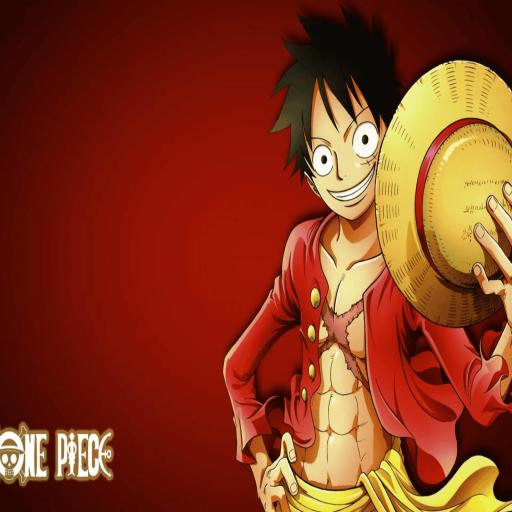Luffy: (234, 0, 512, 512)
